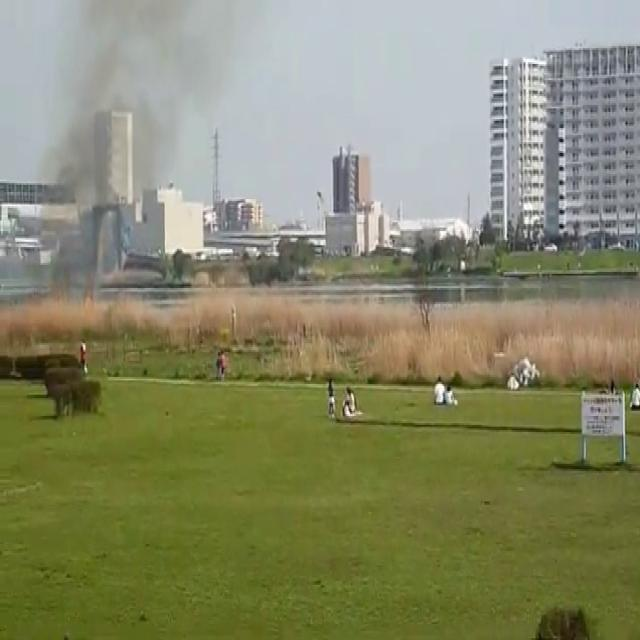Smoke: (45, 4, 162, 302)
